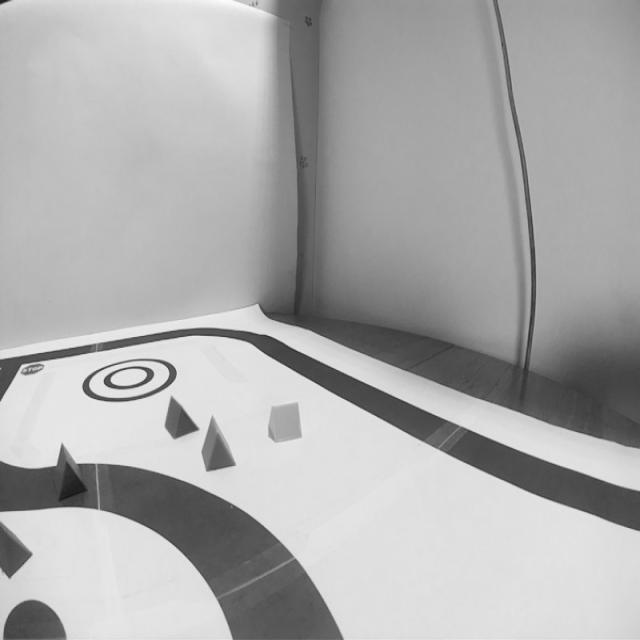cockade: (81, 358, 178, 404)
laneLeftTurn: (112, 460, 350, 640)
triangle: (0, 514, 33, 582), (52, 441, 89, 501), (200, 413, 237, 473), (164, 394, 199, 442), (266, 402, 303, 444)
